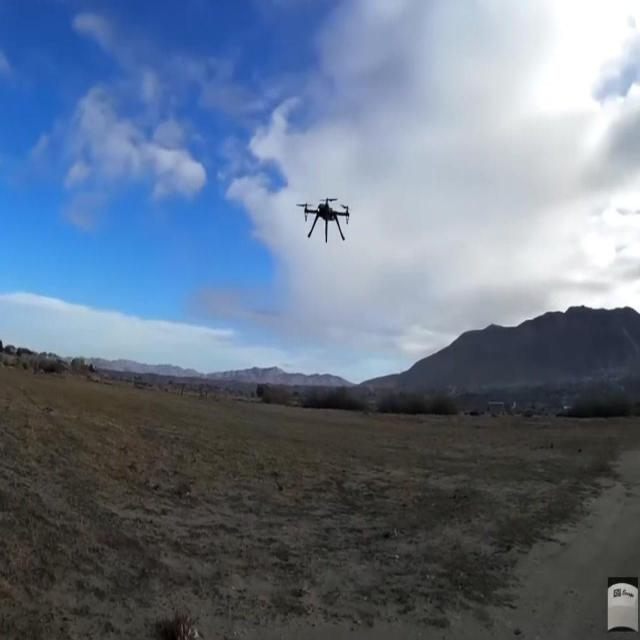UAV: (299, 195, 351, 242)
